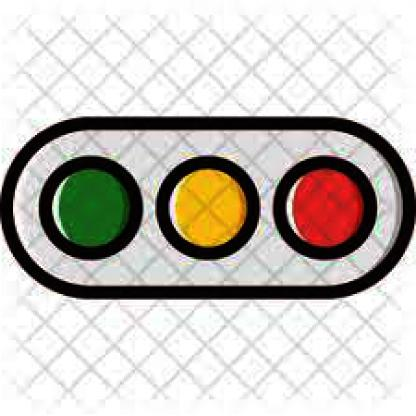traffic-light: (2, 114, 415, 298)
